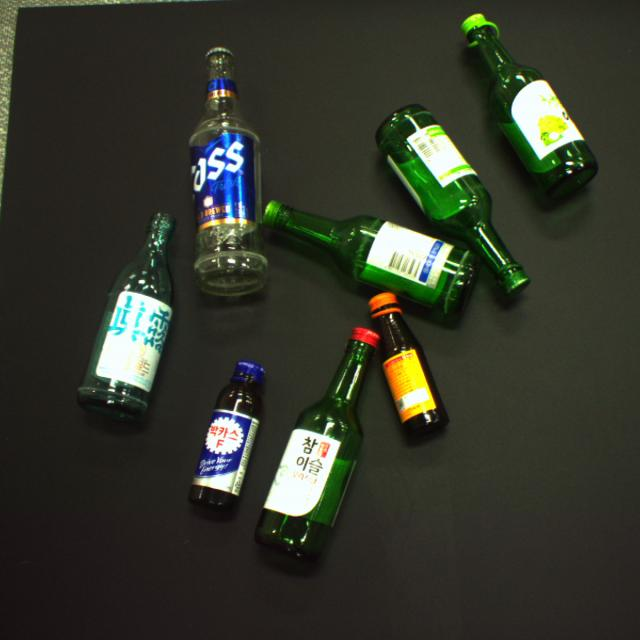beer-bottle: (189, 47, 268, 298)
soju-bottle: (375, 105, 531, 297), (254, 327, 381, 562), (263, 199, 482, 318), (461, 13, 600, 197), (77, 211, 174, 419)
